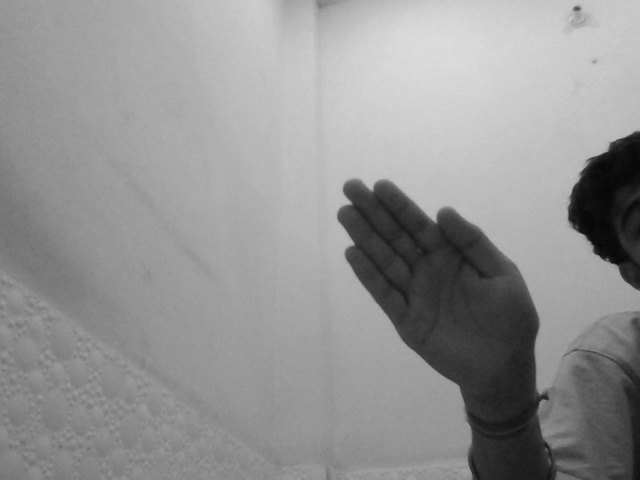Hello: (335, 176, 544, 402)
